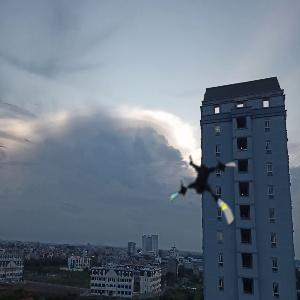drone: (166, 150, 251, 235)
